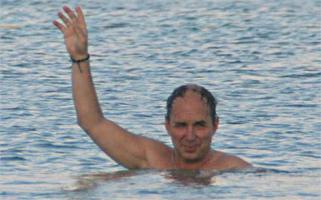person: (53, 7, 252, 170)
